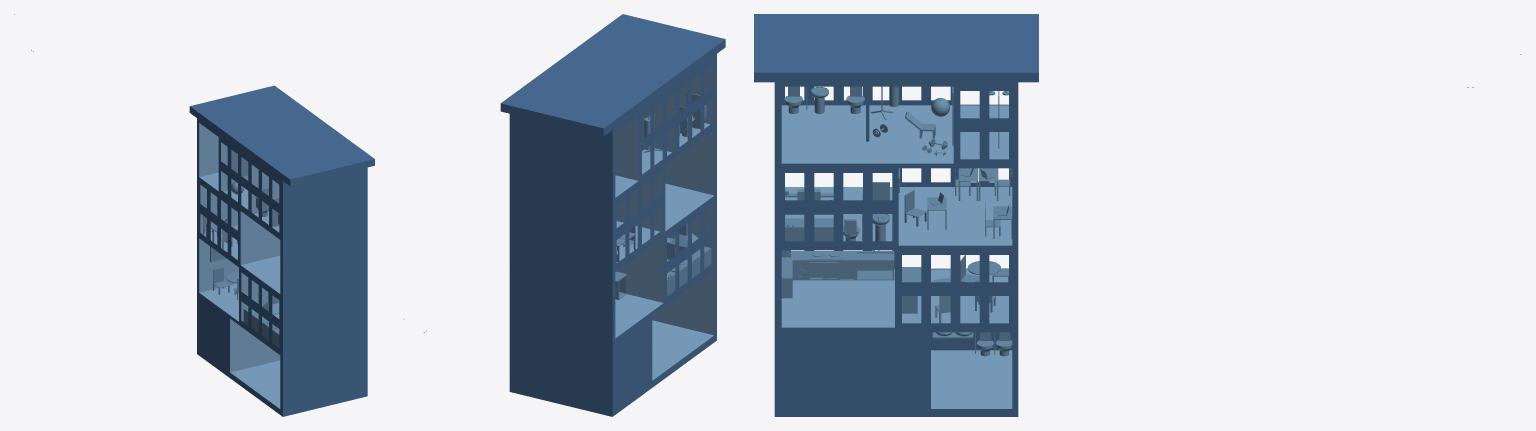
Rendered from office-2-transformed.glb.
3 renders of one model, left to right at view 1: azimuth 30°, elevation 25°; view 2: azimuth 150°, elevation 25°; view 3: azimuth 270°, elevation 25°, orthographic. The views are drawn at different scales.
Parts seen in each view (by area): view 1: Office; view 2: Office; view 3: Office.
Boxes of the visible parts, x1,y1,x2,y2 form: Office: [14, 14, 374, 416]; Office: [403, 14, 725, 416]; Office: [754, 14, 1521, 416].
Size of the model in its own units: 13.87 by 35.45 by 71.63.
Materials: 2 (2 with a texture image).
